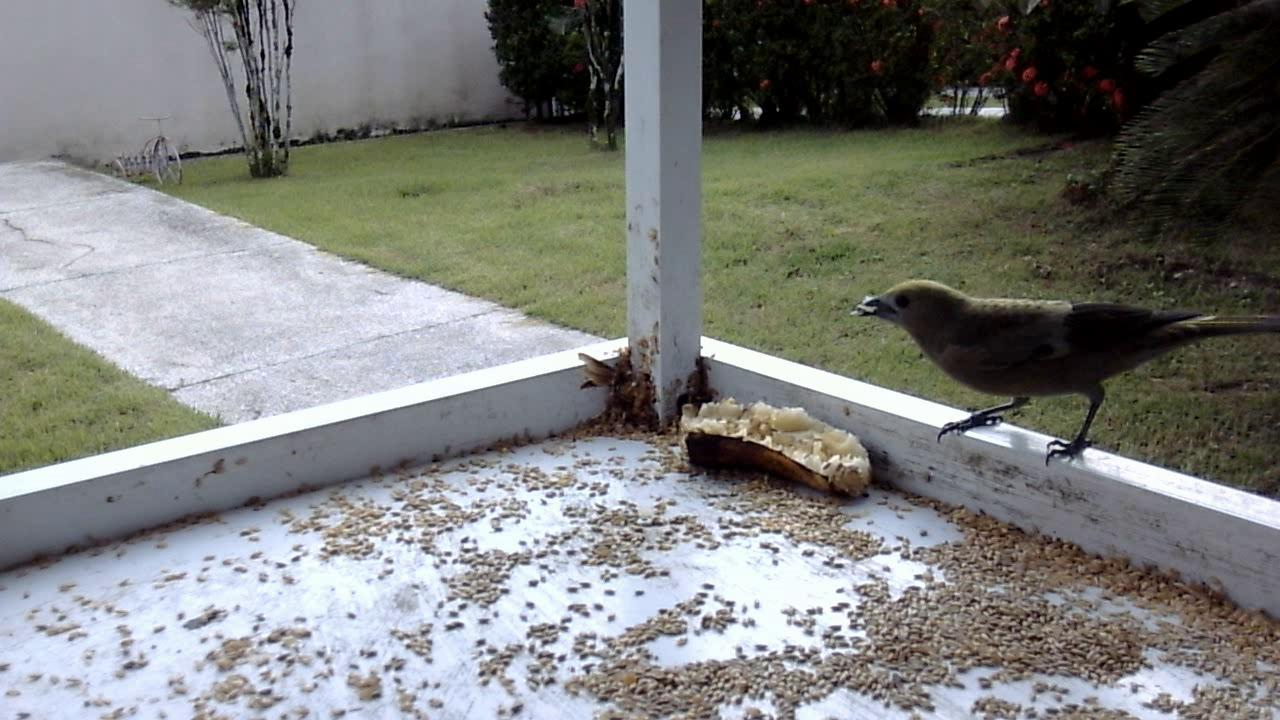sanhaco_do_coqueiro: (844, 274, 1261, 475)
